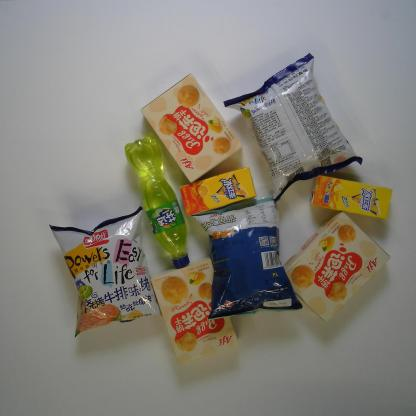Dessert: (281, 212, 391, 323), (140, 72, 243, 185), (150, 257, 239, 365)
Drink: (124, 135, 190, 269), (309, 174, 393, 220), (179, 167, 257, 216)
Puffed Food: (223, 52, 363, 203), (48, 205, 162, 340), (188, 196, 304, 322)
